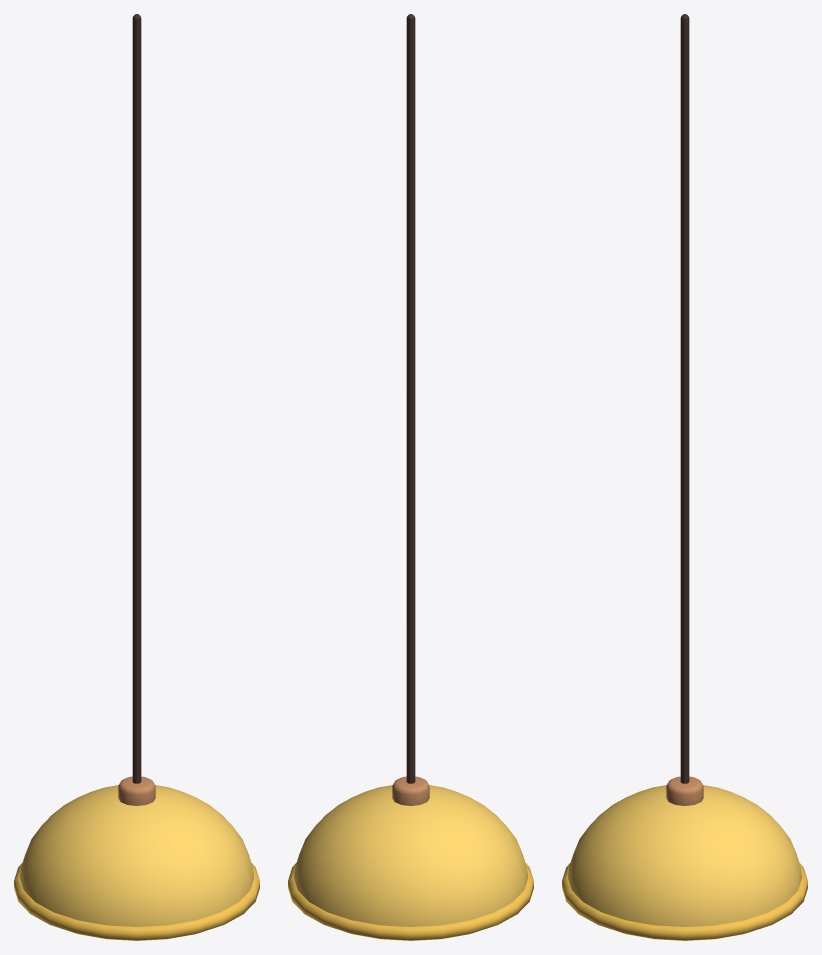
File: lamp_pendant.glb
3 views of the same model, side by side, from view 1: azimuth 30°, elevation 25°; view 2: azimuth 150°, elevation 25°; view 3: azimuth 270°, elevation 25° (orthographic).
Parts seen in each view (by area): view 1: PendantLamp; view 2: PendantLamp; view 3: PendantLamp.
Part boxes in pixels (x1,y1,x2,y2): PendantLamp: (14, 14, 259, 940); PendantLamp: (288, 14, 533, 940); PendantLamp: (562, 14, 807, 940).
Size of the model in its own units: 0.4577 by 1.87 by 0.4577.
